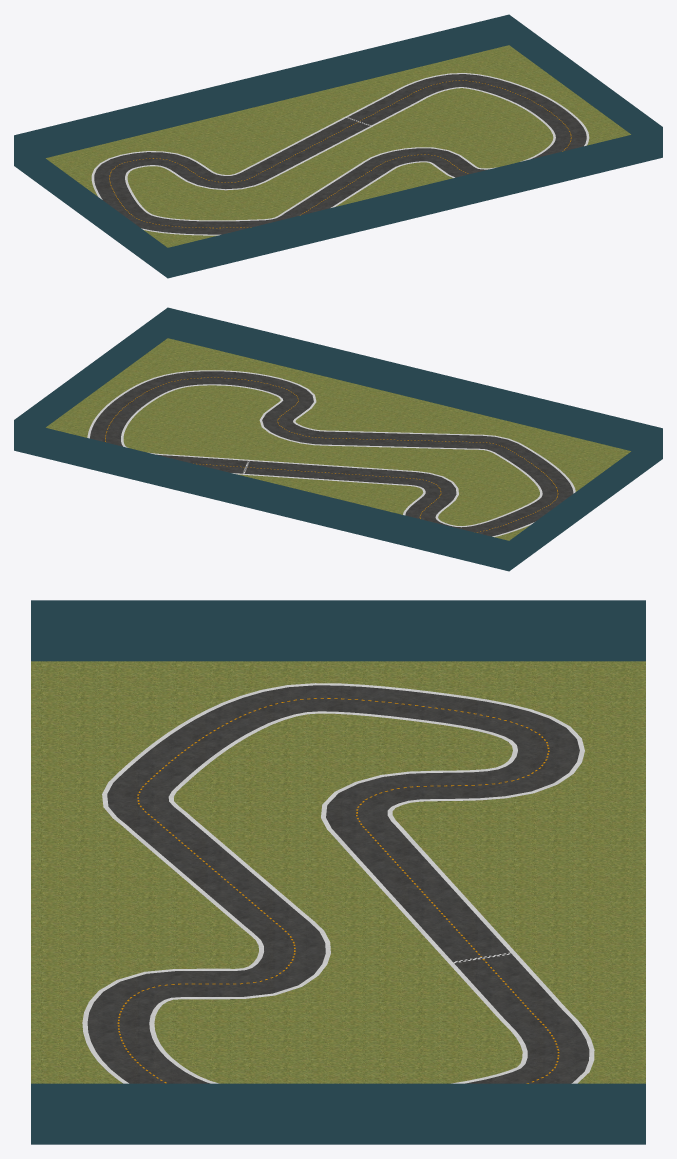
The model's file is 2022_june_open_ccw.dae.
3 renders of one model, top to bottom at view 1: azimuth 30°, elevation 25°; view 2: azimuth 150°, elevation 25°; view 3: azimuth 270°, elevation 25°, orthographic. The views are drawn at different scales.
Visible parts, largest first — view 1: wall, field, road, il, ol, cl; view 2: wall, field, road, il, ol, cl; view 3: field, wall, road, ol, il, cl.
Boxes of the visible parts, <box> form: wall: <box>14,14,662,278</box>; field: <box>46,45,630,247</box>; road: <box>94,74,586,235</box>; il: <box>125,87,555,221</box>; ol: <box>91,73,589,235</box>; cl: <box>109,80,571,228</box>; wall: <box>14,307,662,571</box>; field: <box>46,338,630,540</box>; road: <box>90,371,573,536</box>; il: <box>121,384,542,527</box>; ol: <box>87,370,575,536</box>; cl: <box>105,377,558,532</box>; field: <box>31,661,645,1083</box>; wall: <box>31,600,645,1144</box>; road: <box>87,685,589,1083</box>; ol: <box>82,683,594,1083</box>; il: <box>149,711,527,1083</box>; cl: <box>117,698,559,1083</box>.
Bounding box in the file's own units: 16.93 × 9.11 × 1.
Materials: 7 (7 with a texture image).
